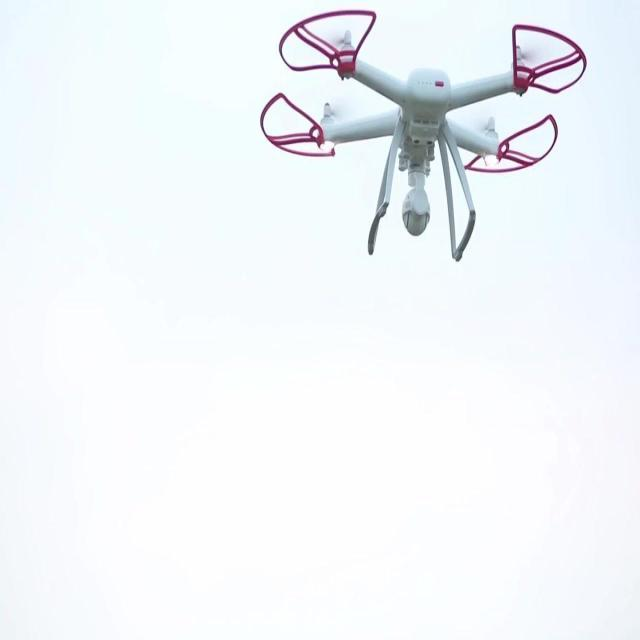UAV: (260, 10, 586, 261)
